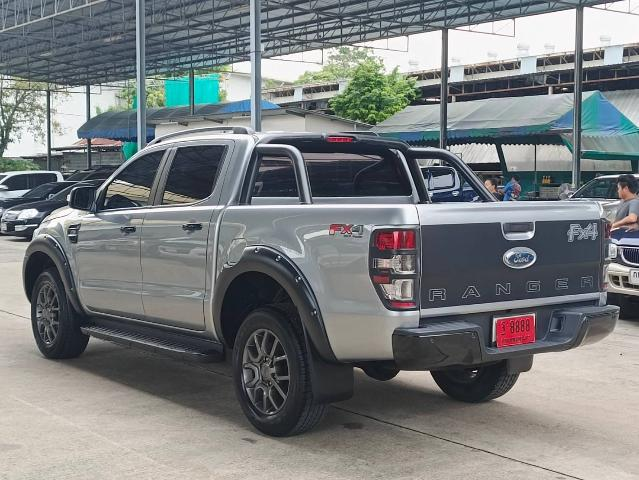pickup-truck: (15, 114, 636, 450)
